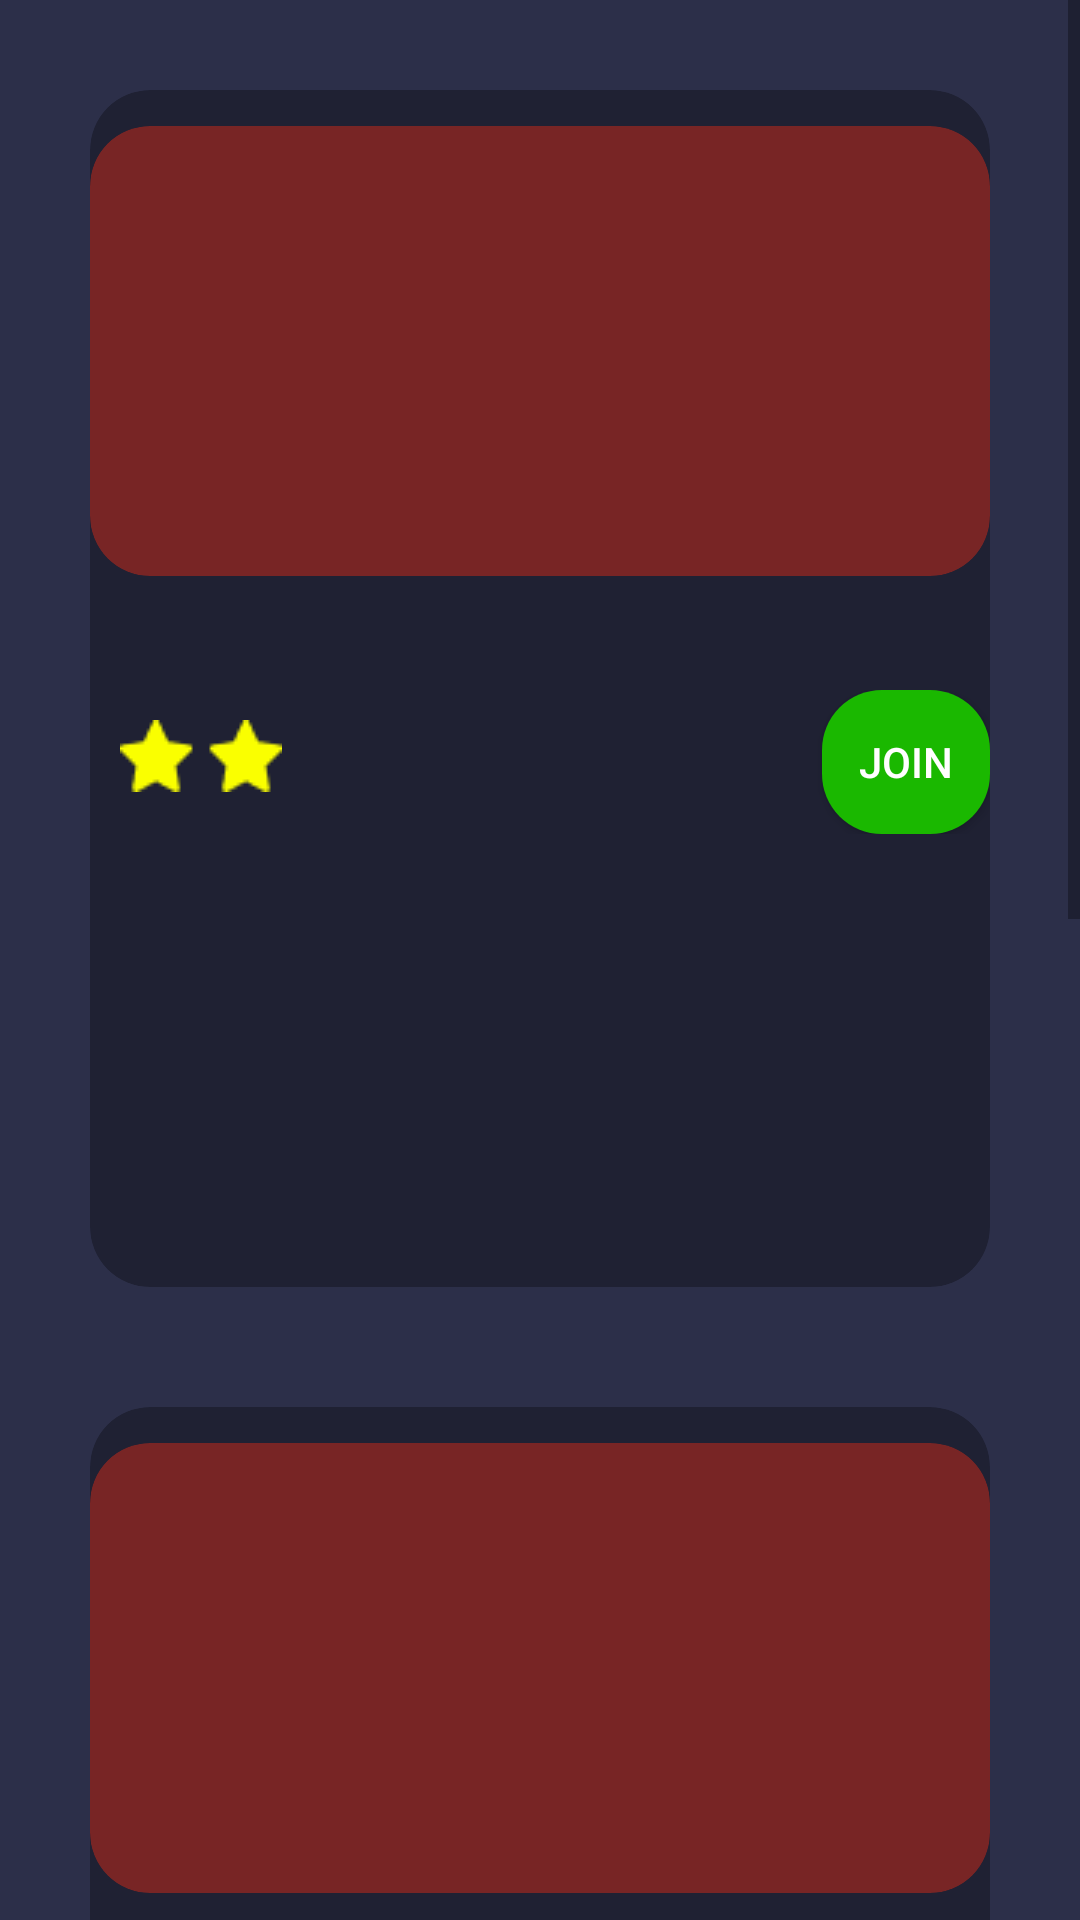

Icon click points for this 1080*1920 phone screenshot, format [x,y]:
two star: [201,756]
